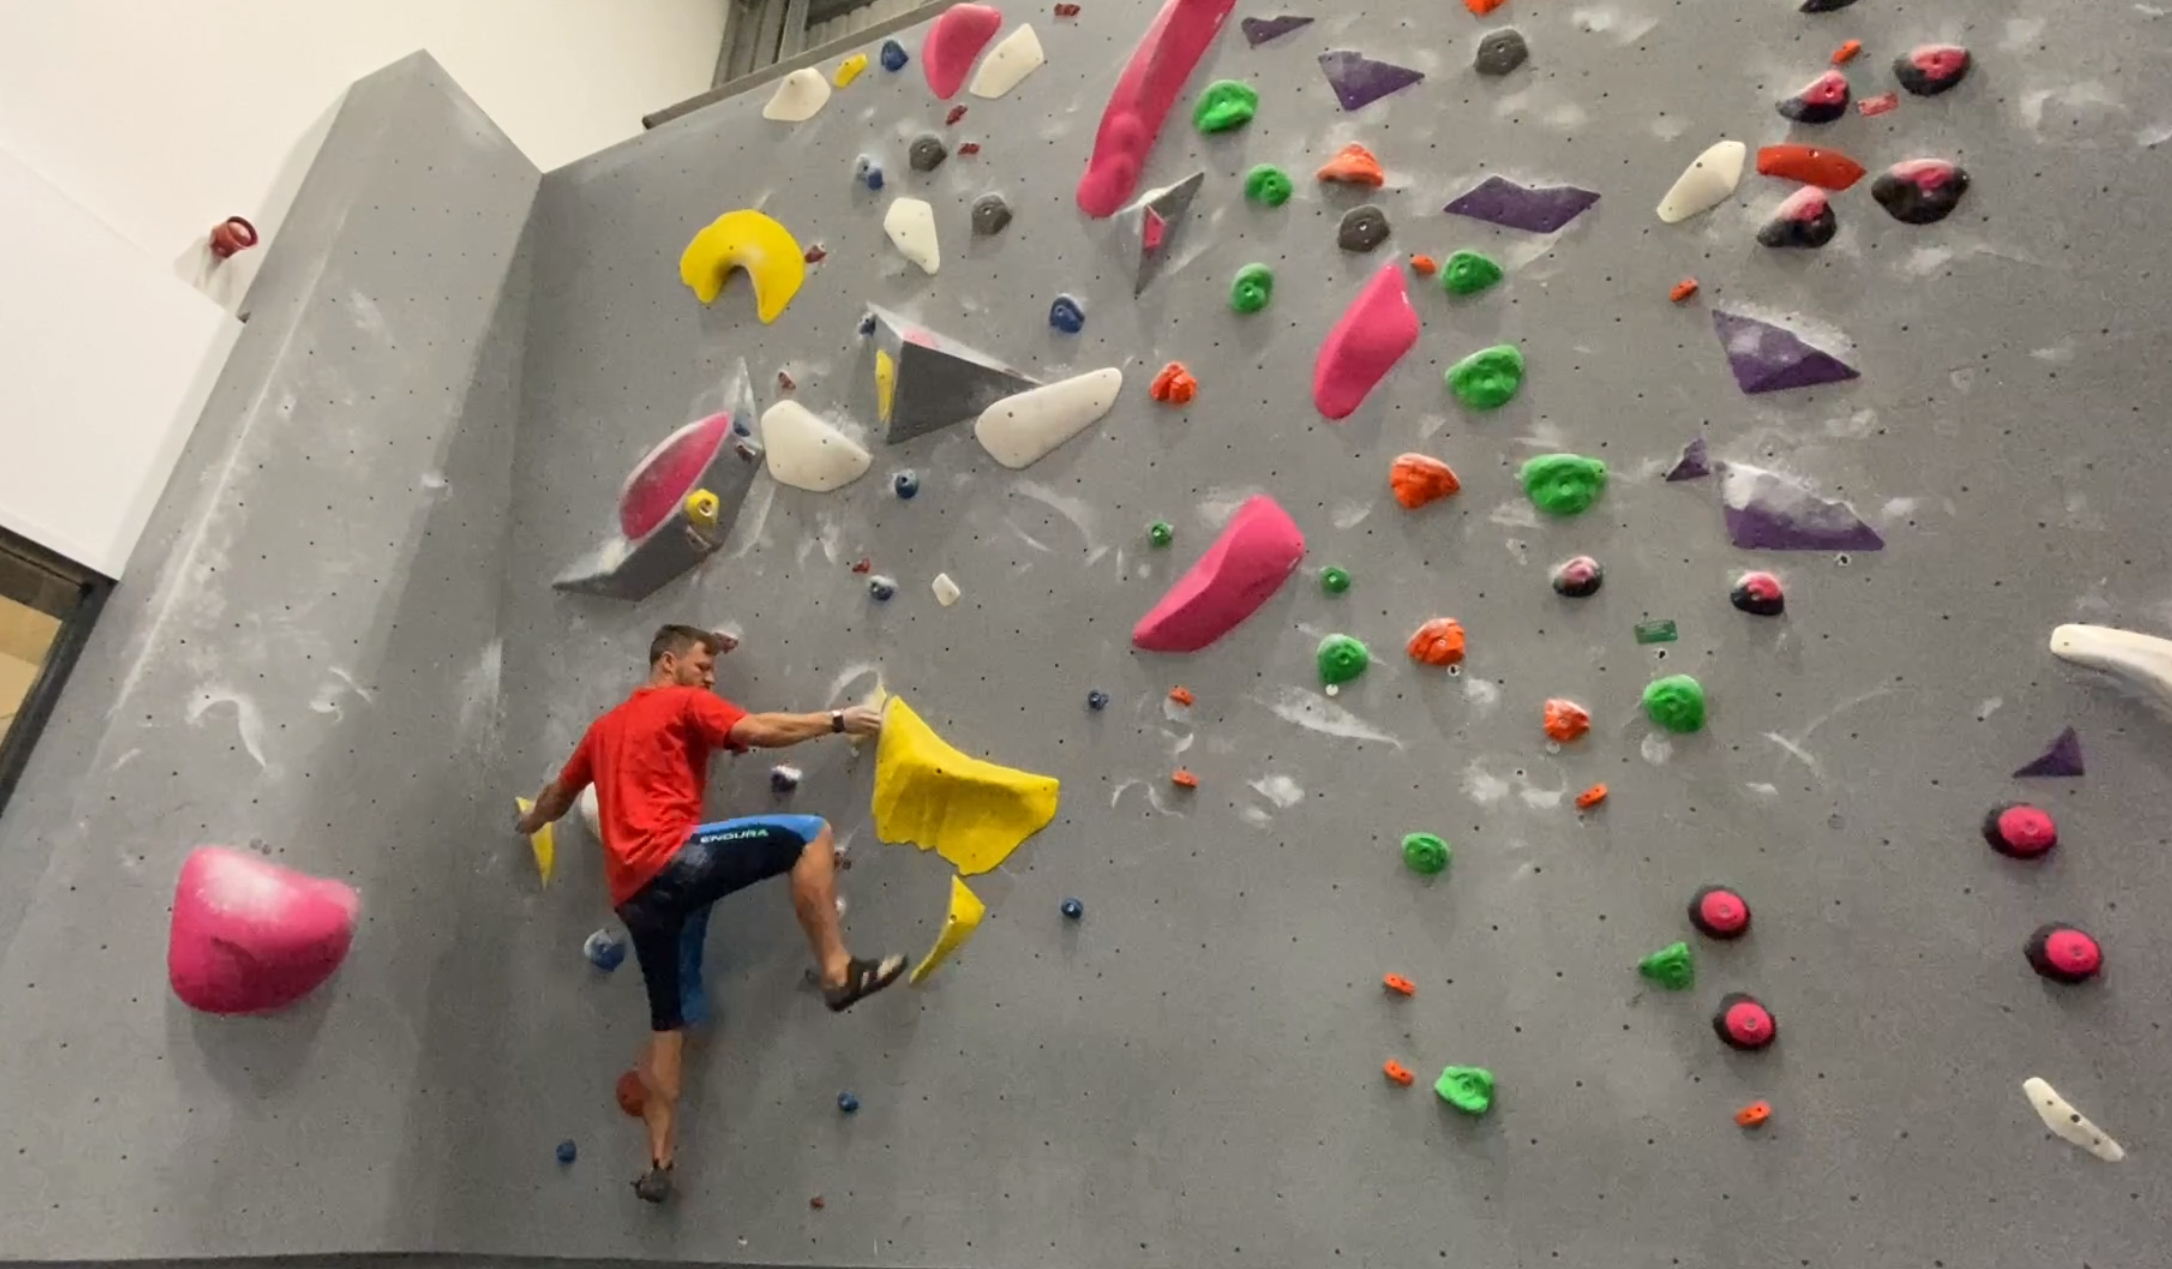hold: (157, 826, 379, 1036), (846, 683, 1066, 872), (1118, 489, 1304, 662), (662, 195, 828, 326), (1710, 449, 1890, 565), (1310, 257, 1430, 428), (1704, 290, 1874, 411), (976, 360, 1133, 480), (1436, 165, 1610, 252), (752, 388, 882, 499), (2013, 1062, 2134, 1180), (900, 866, 1001, 996), (1646, 130, 1761, 239), (615, 408, 714, 514), (1304, 39, 1430, 119), (1513, 446, 1630, 527), (955, 20, 1057, 104), (1739, 139, 1877, 199), (1998, 715, 2101, 795), (918, 2, 992, 103), (1300, 140, 1412, 205), (872, 193, 955, 275), (1187, 73, 1272, 153), (508, 781, 569, 890), (1628, 668, 1717, 743), (1384, 447, 1470, 524), (1442, 347, 1536, 414), (755, 57, 838, 128), (1430, 1057, 1509, 1130), (1633, 925, 1701, 999), (1530, 692, 1606, 757), (1725, 1080, 1809, 1138), (861, 344, 909, 444), (1661, 431, 1725, 492), (1239, 154, 1304, 215), (1394, 823, 1461, 882), (1142, 354, 1207, 412), (572, 922, 633, 974), (918, 557, 967, 616), (610, 1062, 660, 1118), (1041, 286, 1095, 335), (1313, 554, 1367, 604), (1376, 965, 1433, 1011), (1171, 761, 1223, 810), (1376, 1047, 1424, 1095), (822, 44, 872, 89), (1563, 775, 1621, 814), (896, 316, 946, 360), (887, 462, 933, 508), (1133, 205, 1171, 260), (867, 36, 912, 79), (831, 1083, 879, 1122), (1054, 887, 1098, 928), (1088, 680, 1122, 730), (859, 570, 903, 607), (1669, 275, 1713, 313), (551, 1133, 594, 1171), (936, 92, 973, 130), (1166, 681, 1201, 718), (798, 236, 837, 266), (1045, 2, 1088, 26), (955, 131, 989, 159)
